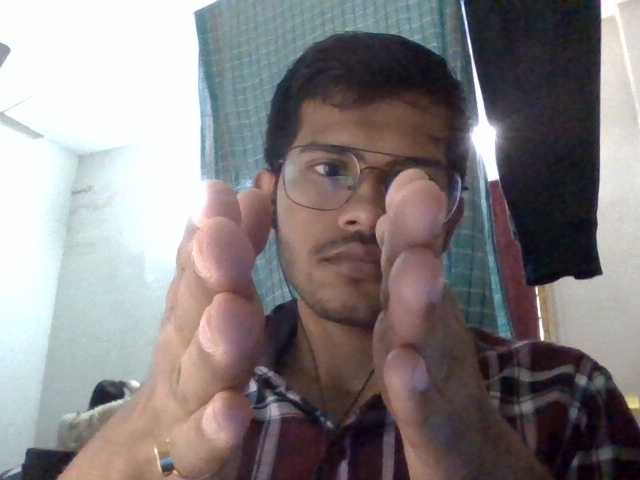ThankYou: (169, 167, 462, 480)
